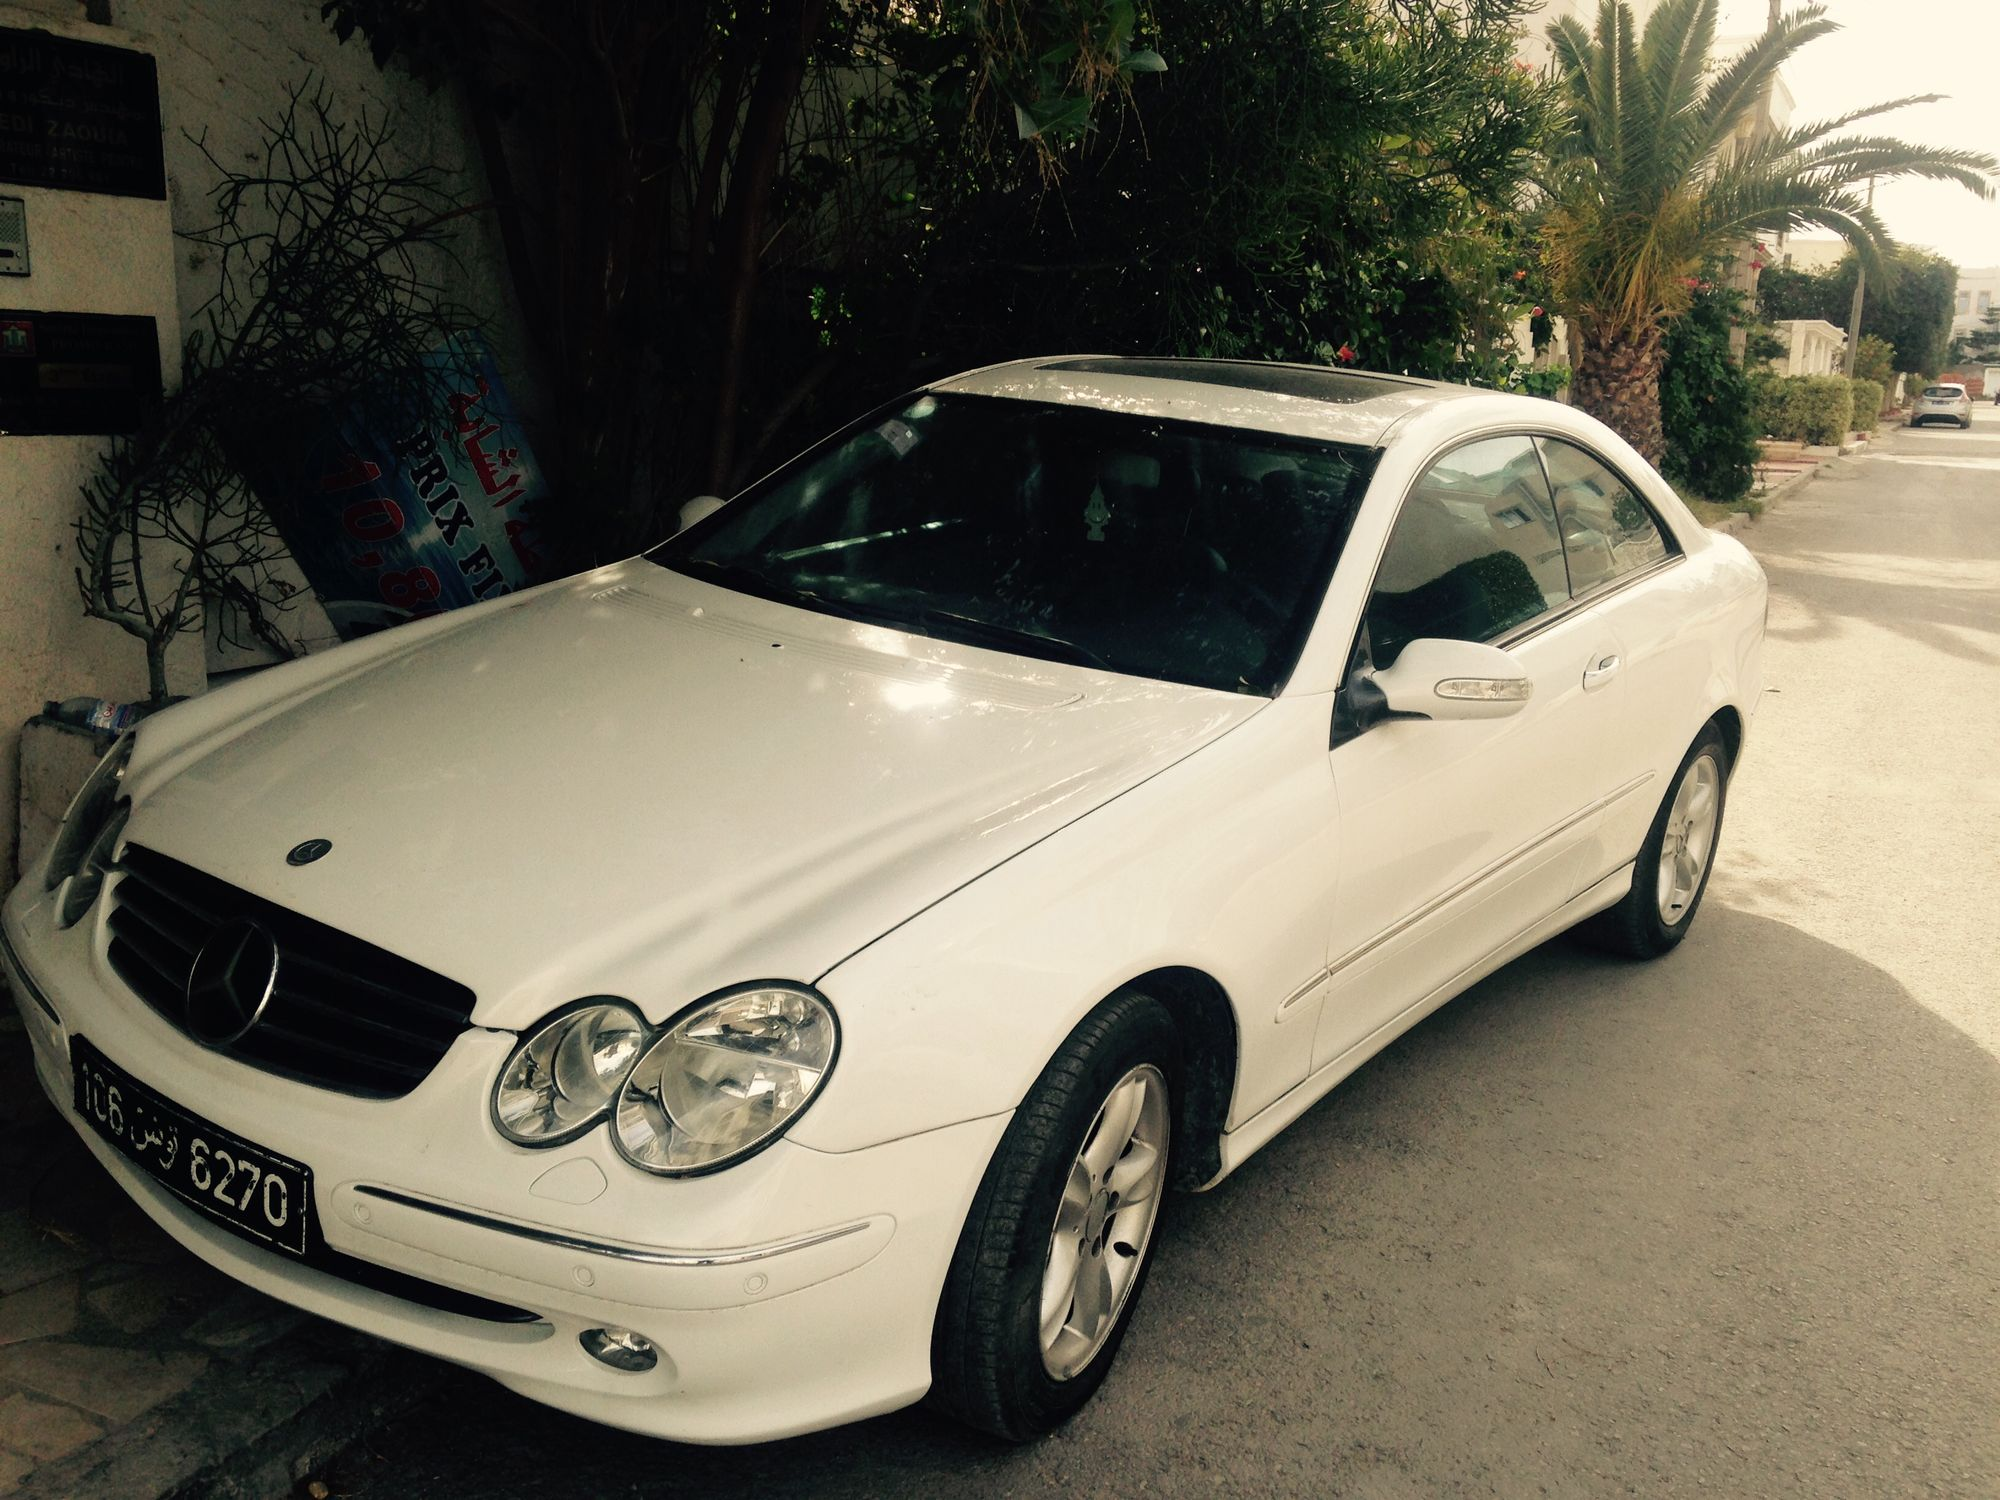LP: (67, 1034, 313, 1256)
